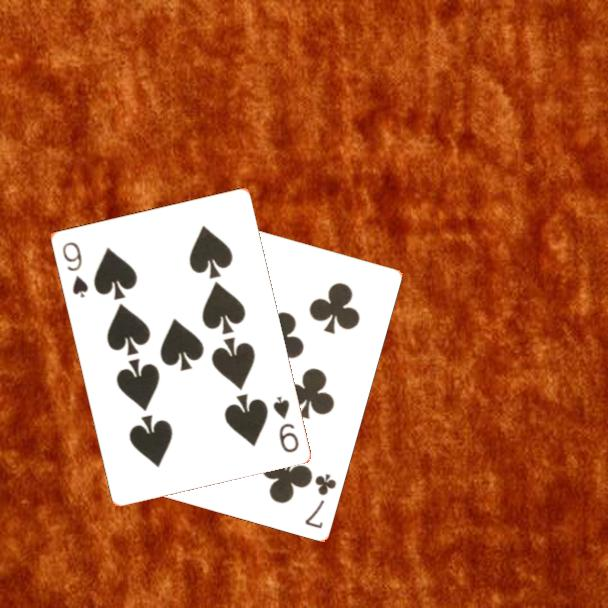c07: (301, 470, 339, 531)
s09: (58, 238, 91, 300), (269, 392, 301, 455)
